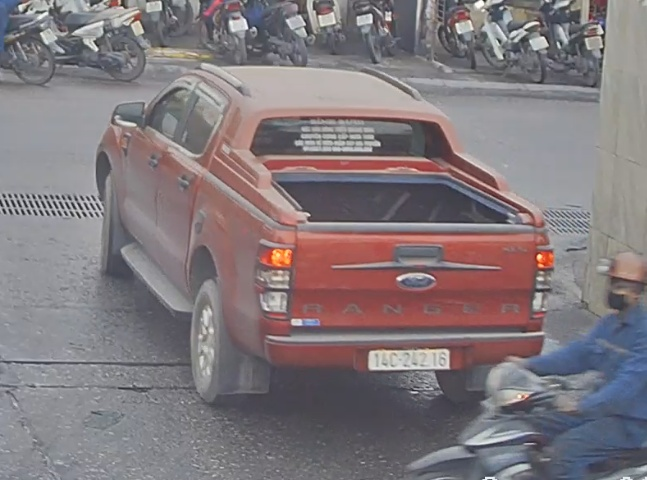vehicle plate: (363, 343, 454, 373)
